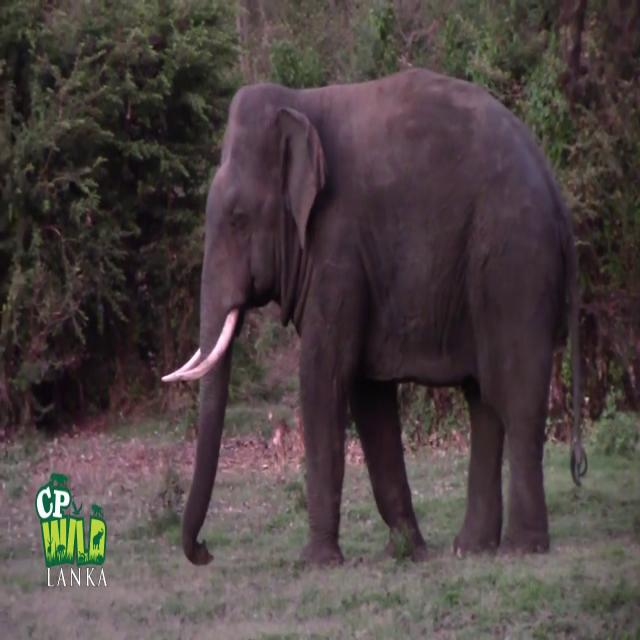Elephant: (161, 66, 587, 570)
